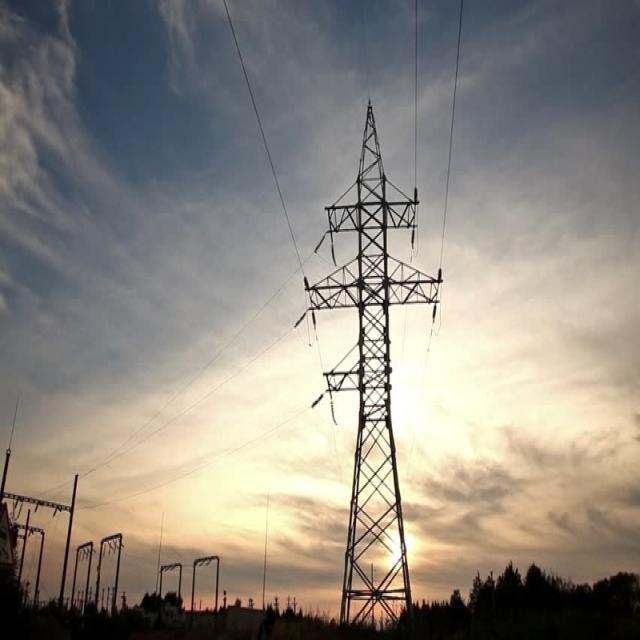non-critical vegetation: (321, 135, 436, 605)
